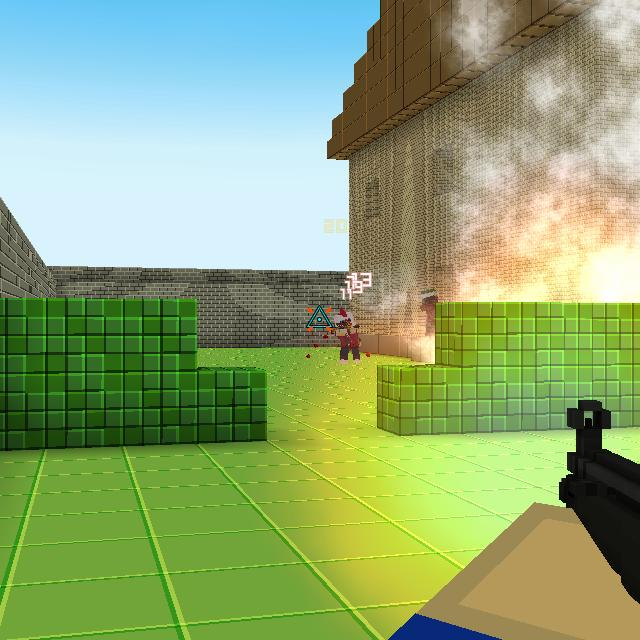enemy: (332, 306, 363, 364), (419, 286, 439, 337)
